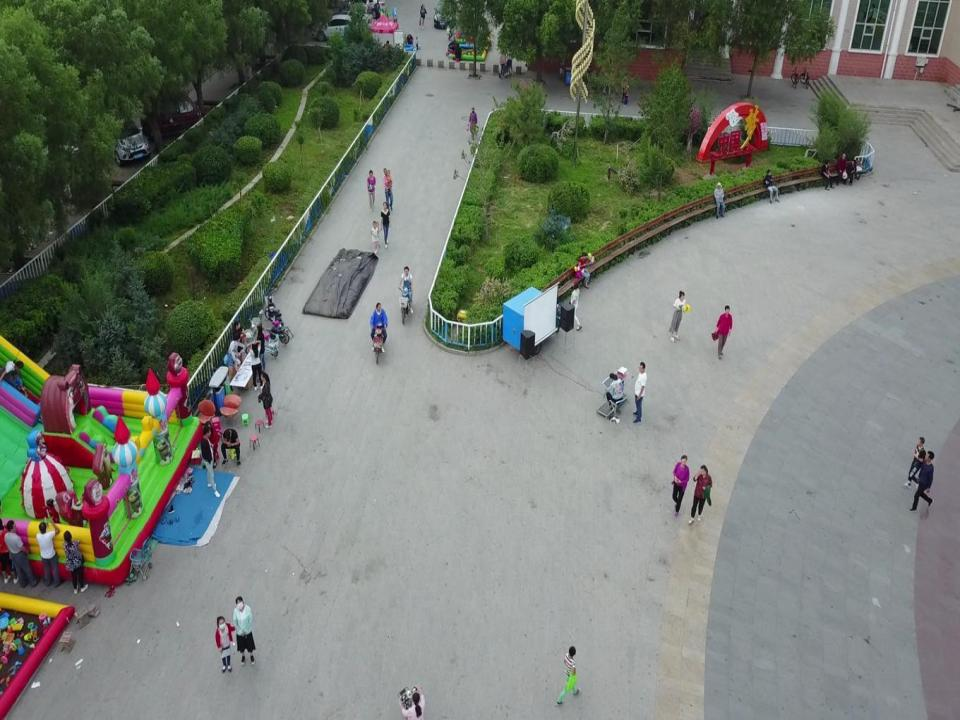car: (139, 68, 206, 136), (30, 128, 82, 202), (92, 104, 149, 160), (316, 9, 356, 42), (433, 1, 459, 27)
